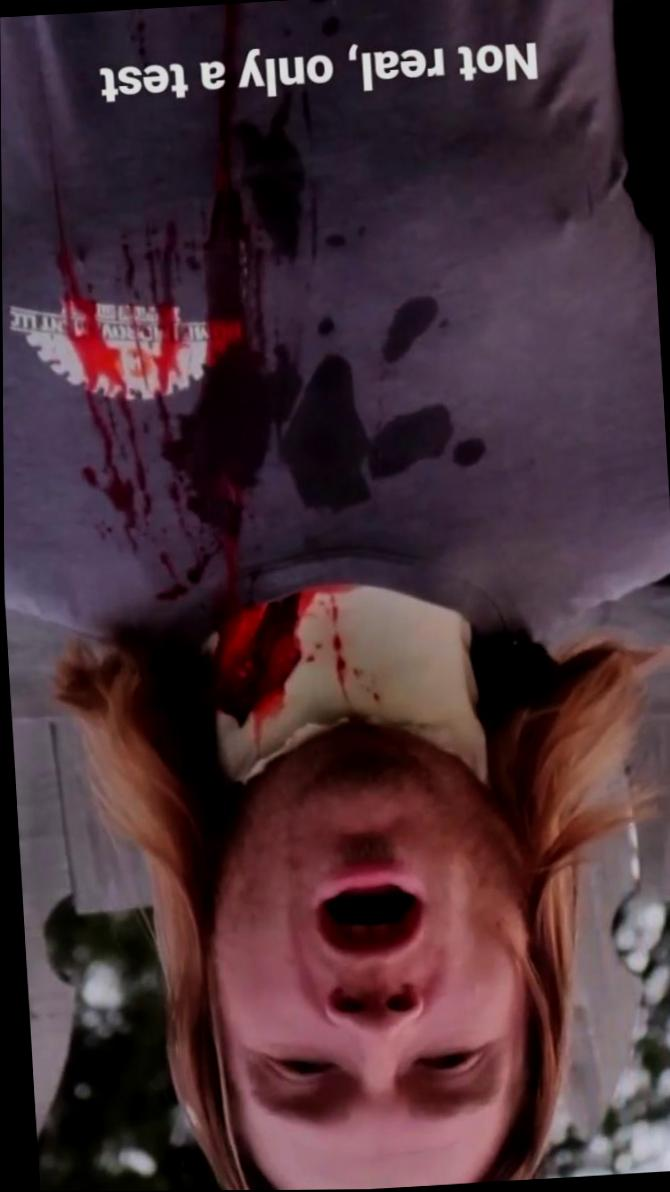Fire: (55, 3, 365, 780)
